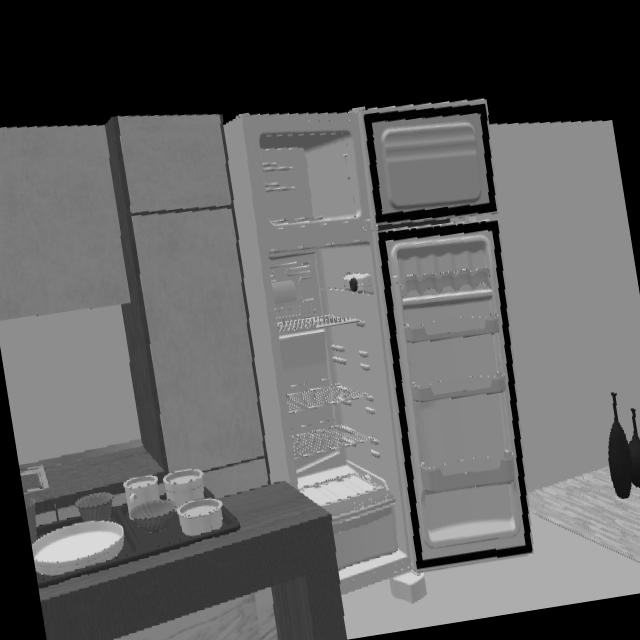countertop: (19, 441, 164, 500)
fridge: (223, 100, 531, 597)
sink: (20, 467, 52, 502)
